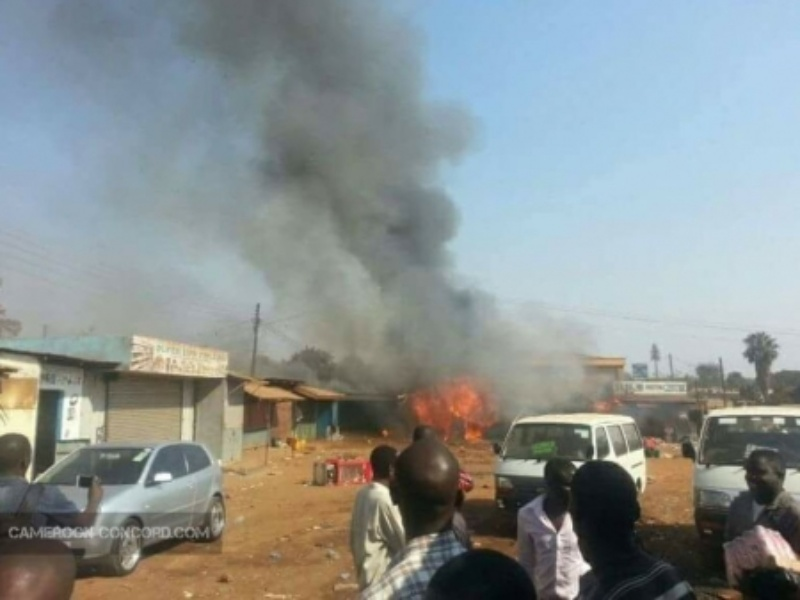smoke: (180, 2, 464, 371)
